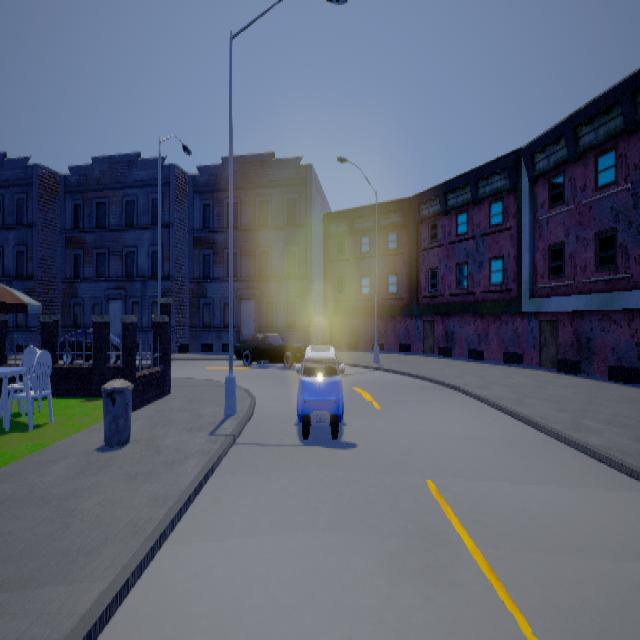vehicle: (298, 332, 346, 444), (234, 322, 308, 371)
